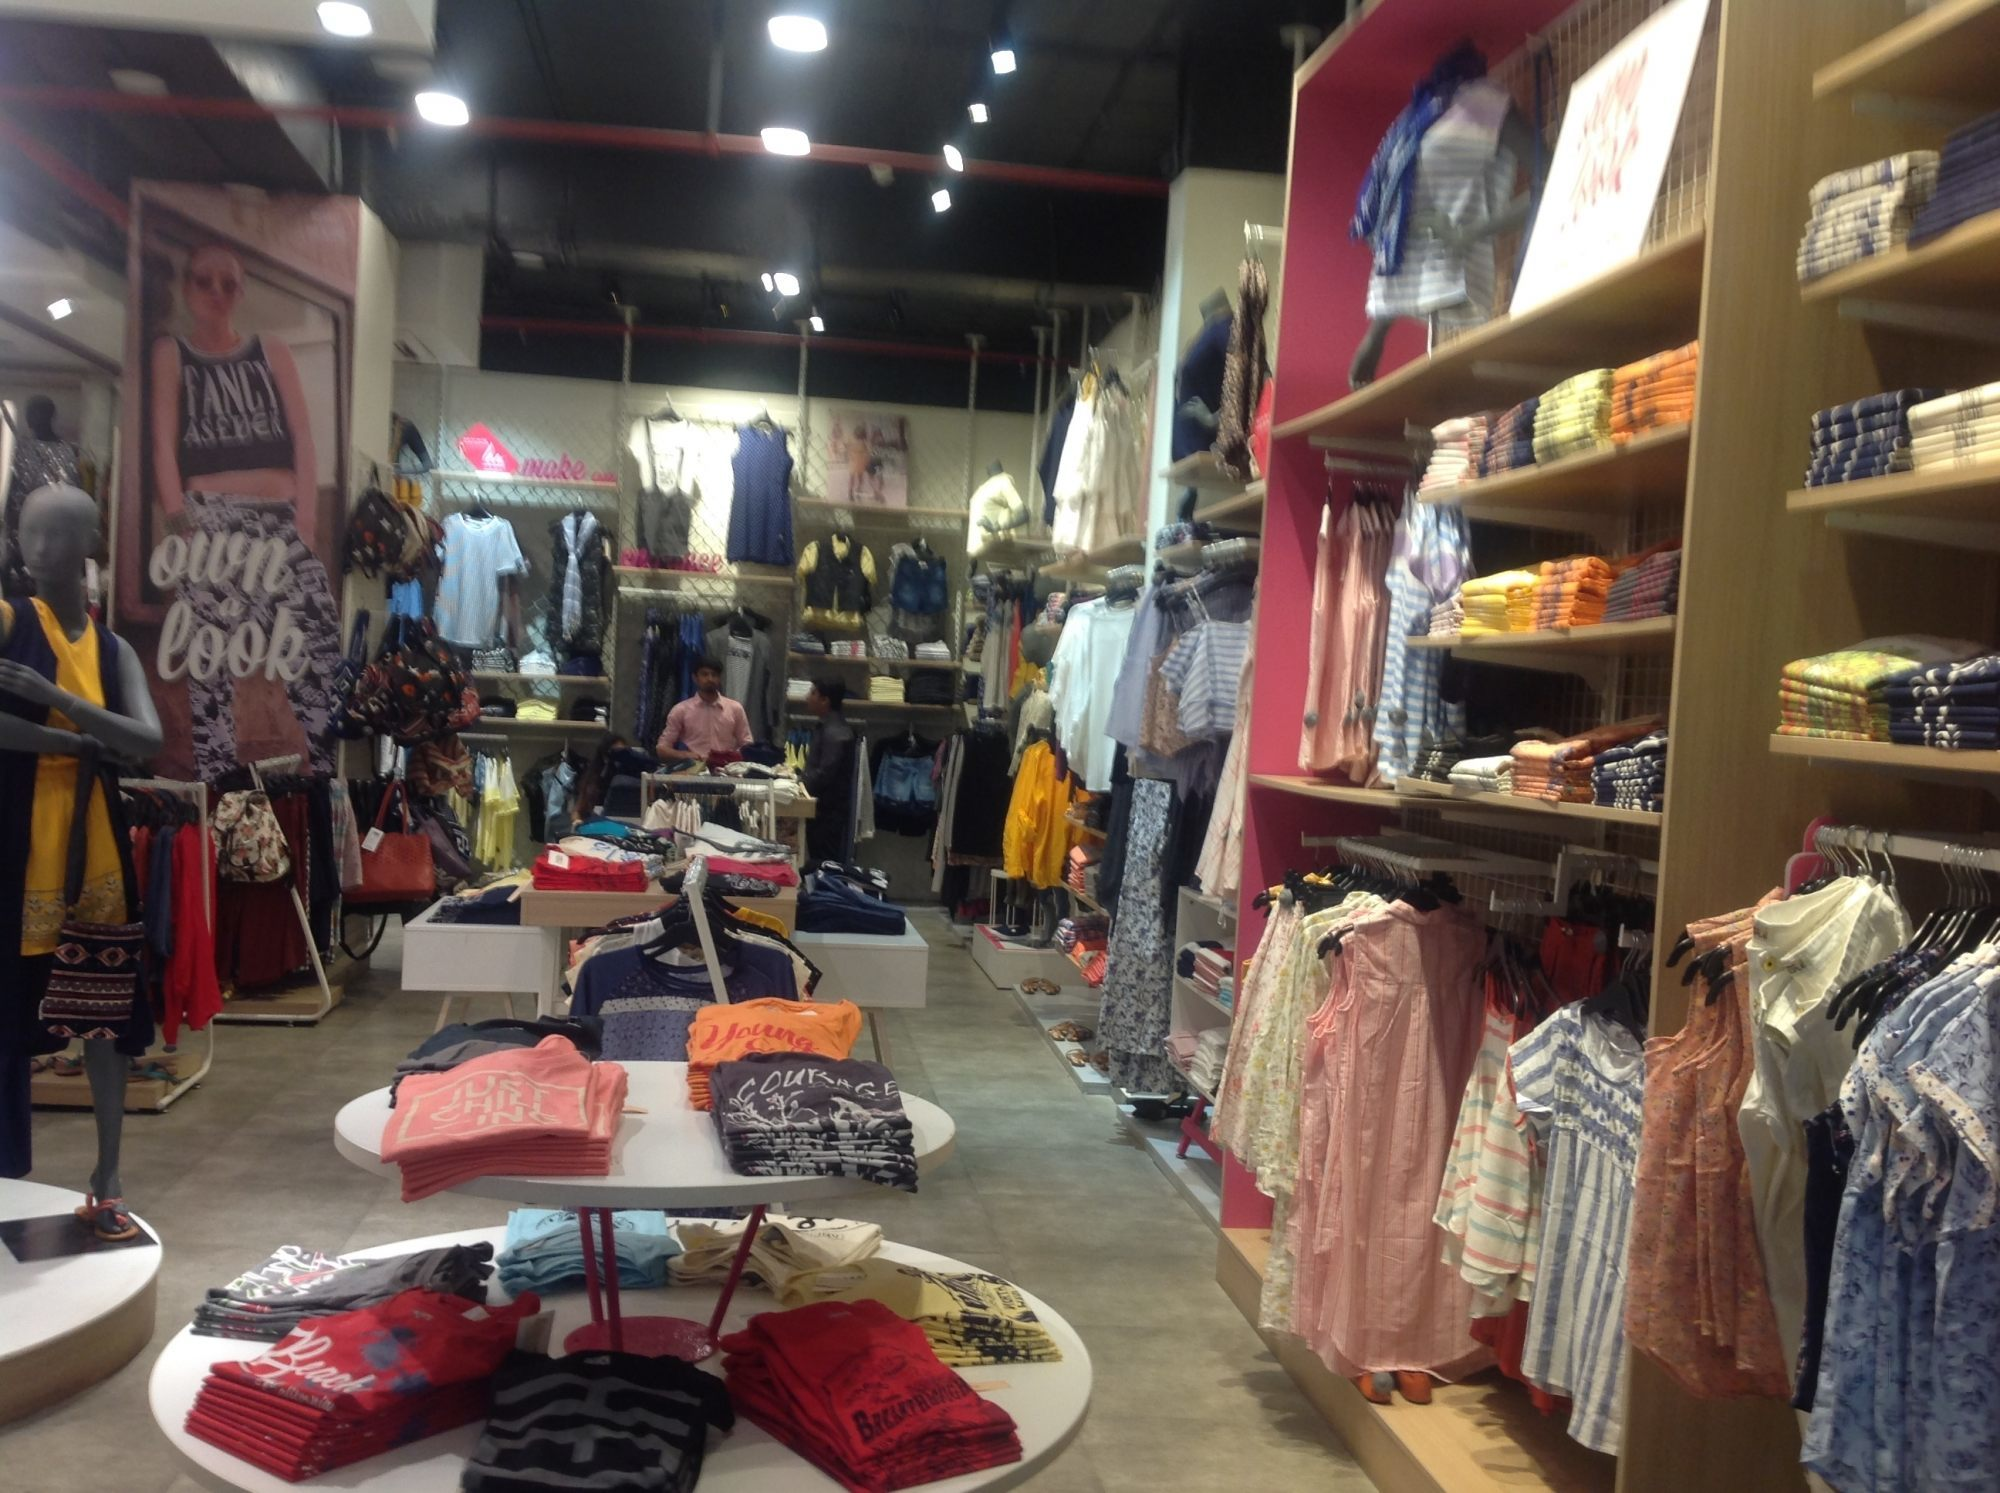Age_20_30: (687, 661, 728, 697)
E_Indian: (687, 661, 728, 697)
Emotion_Neutral: (687, 661, 728, 697)
G_Male: (687, 661, 728, 697)
